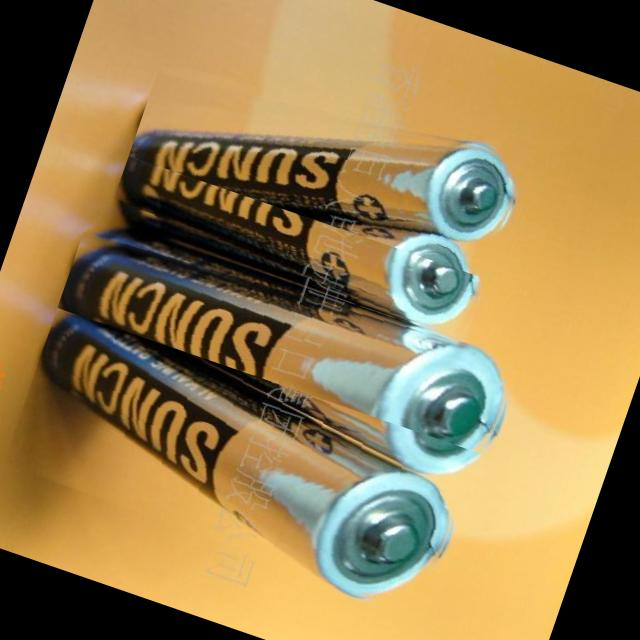Hazard: (0, 307, 479, 618), (42, 212, 523, 496), (127, 34, 530, 280), (105, 125, 497, 342)
